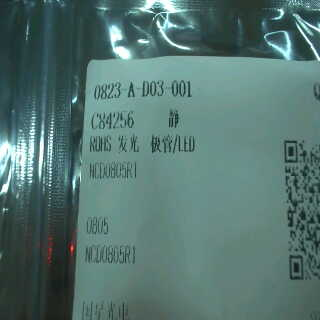LED: (113, 133, 200, 158)
